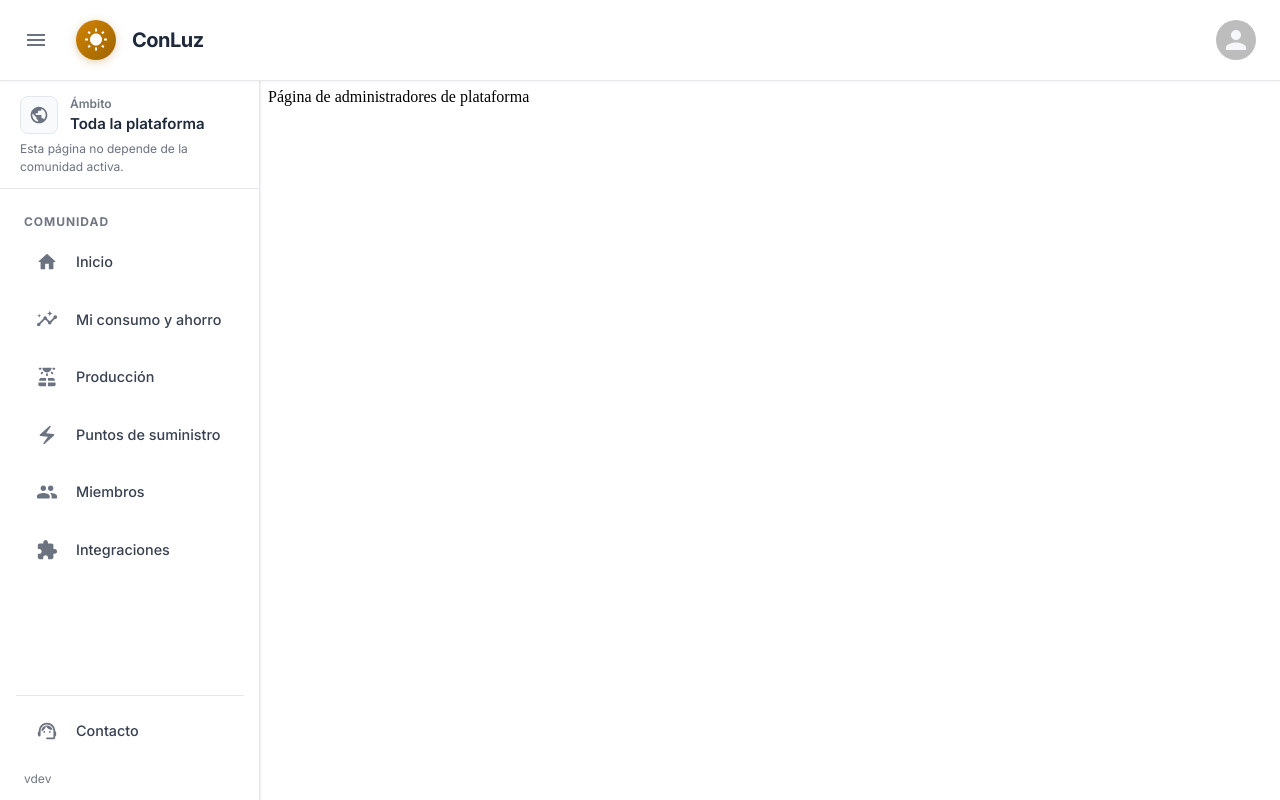
Test: AuthenticatedLayout — the page scope is stated exactly once (AC4) › /platform-admins states 'Toda la plataforma' once, in either menu state, and never the community
Expected: the number of elements named "Ámbito de la página" is 1, [0,64,260,189]
Expected: the text "Toda la plataforma" is shown once, [70,114,205,133]
Click the button named "menu": (36, 40) [12,16,60,64]
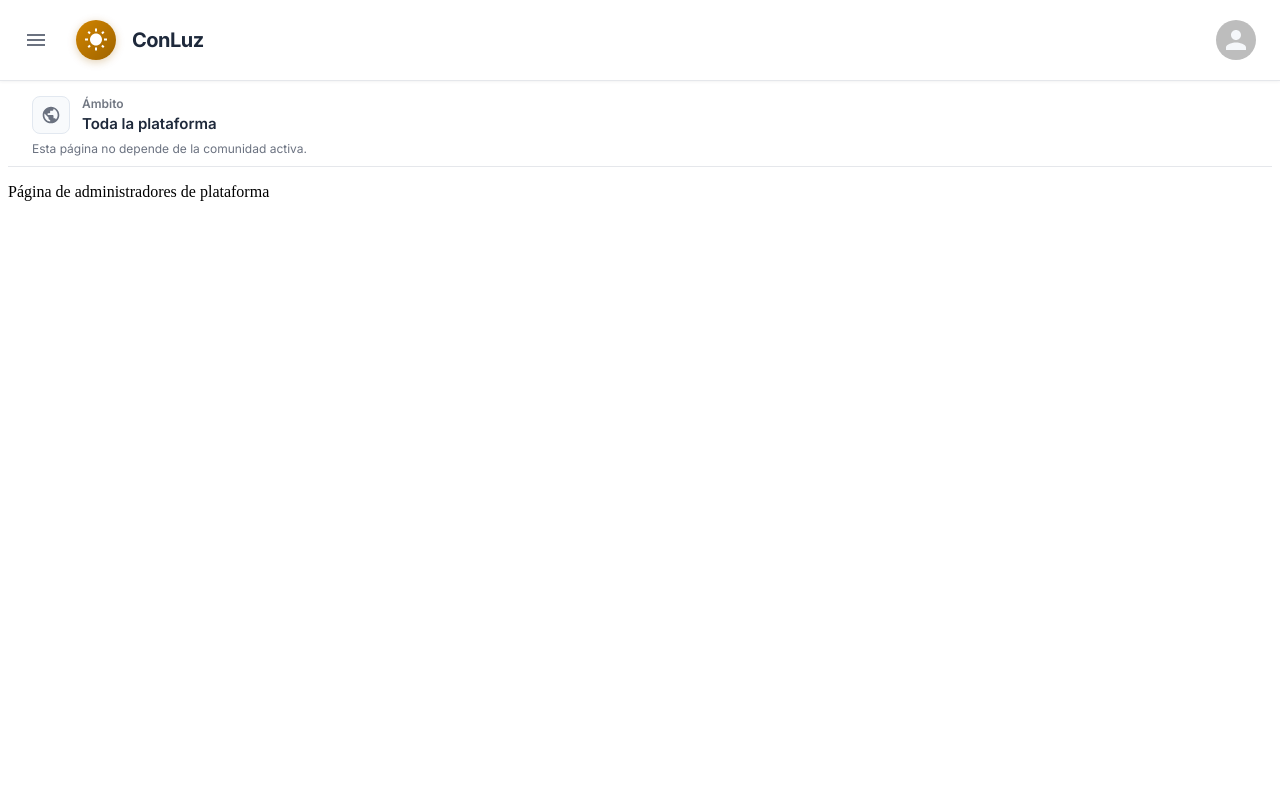
Expected: the number of elements named "Ámbito de la página" is 1, [8,72,1272,167]
Result: the text "Toda la plataforma" is shown once at [82,114,217,133]
